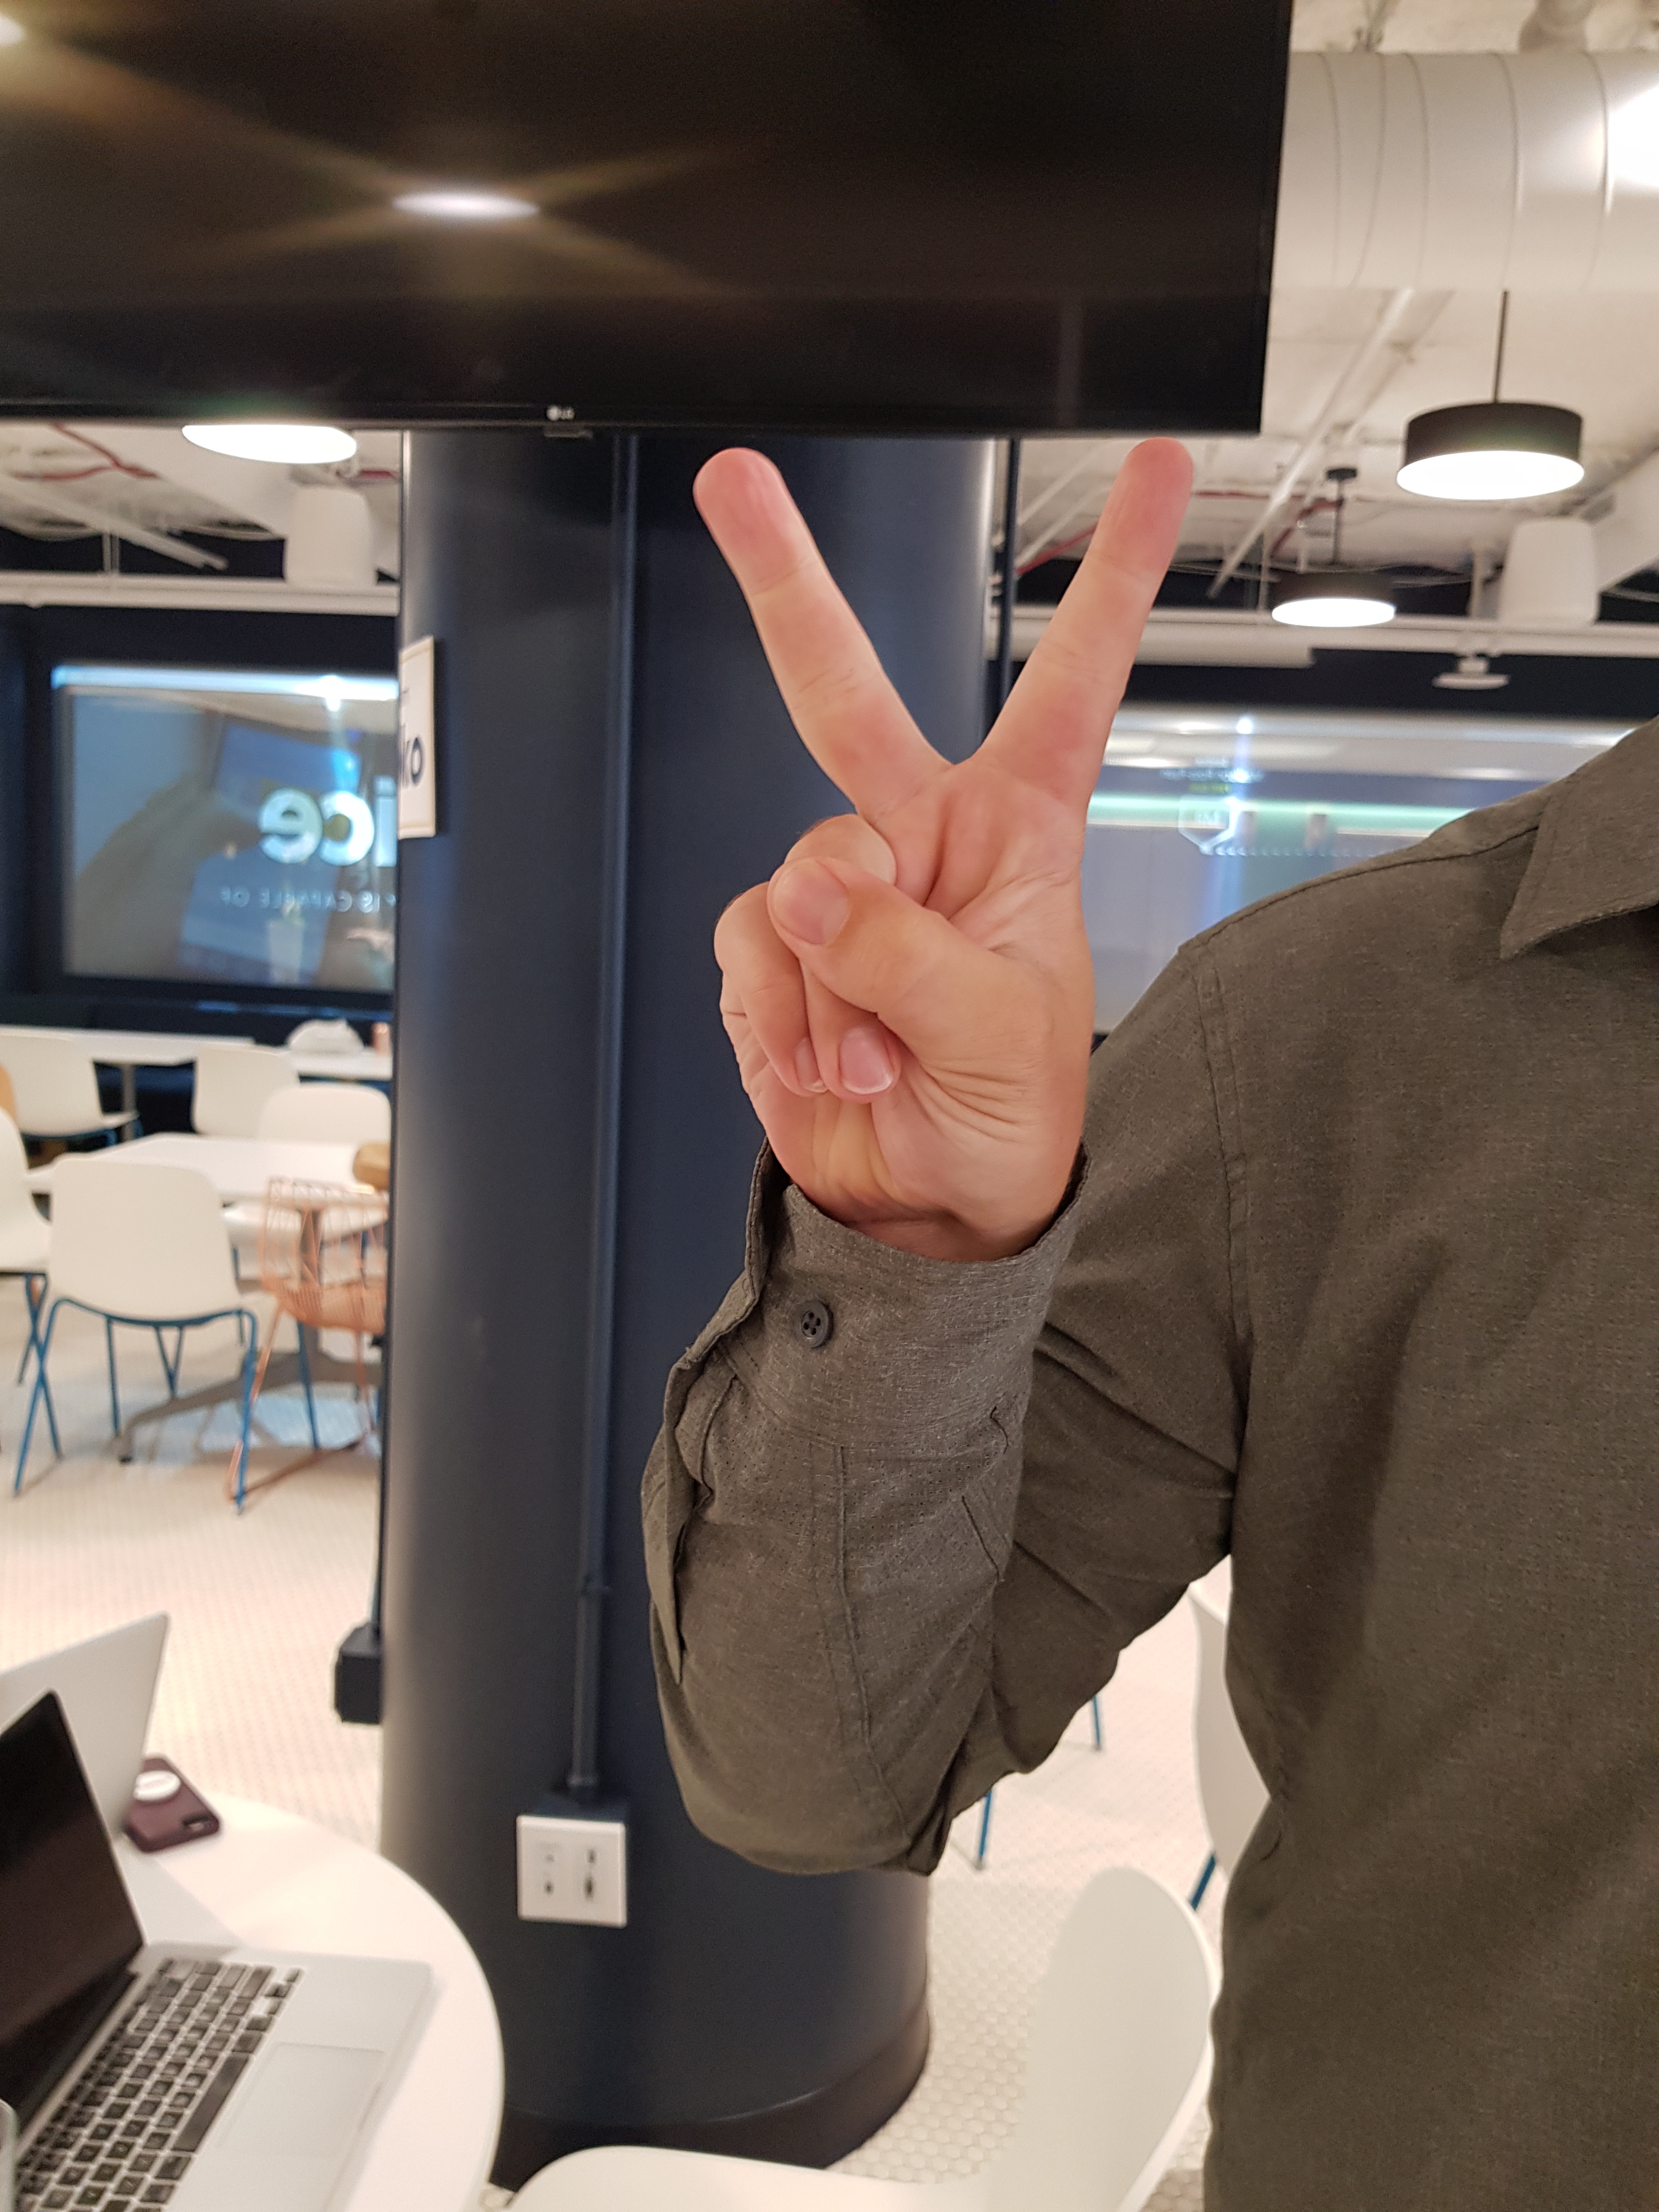v: (592, 388, 1260, 1287)
